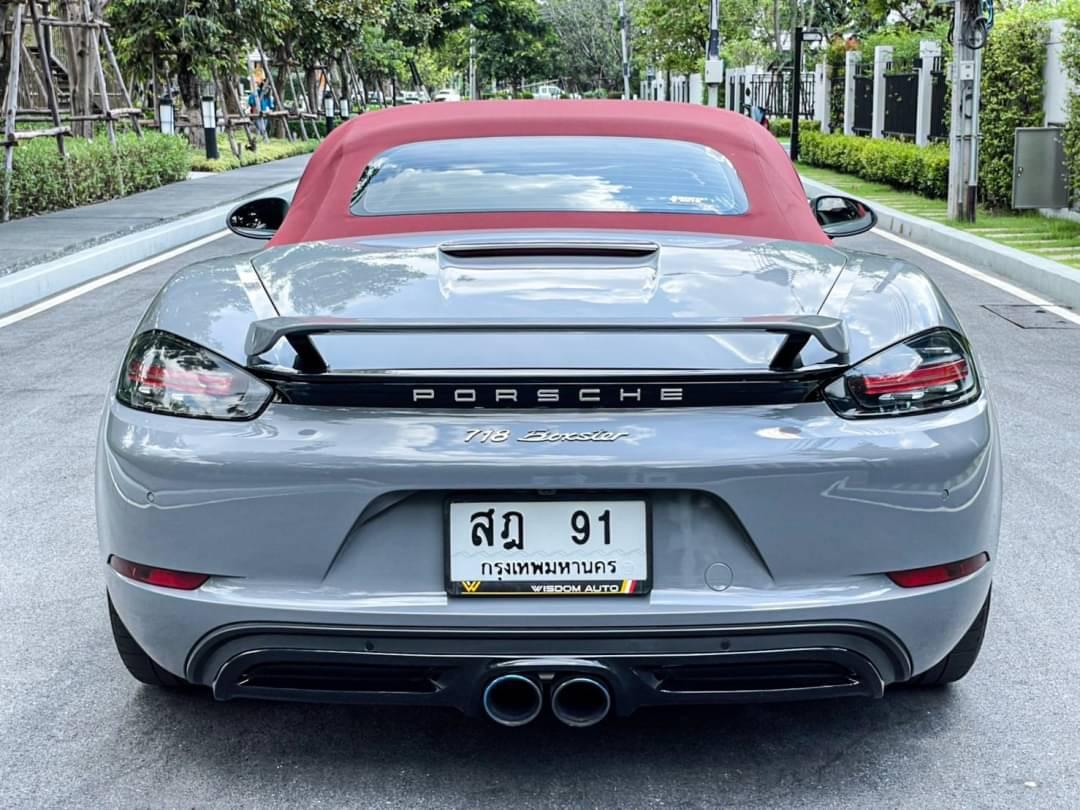license-plate: (444, 491, 657, 599)
